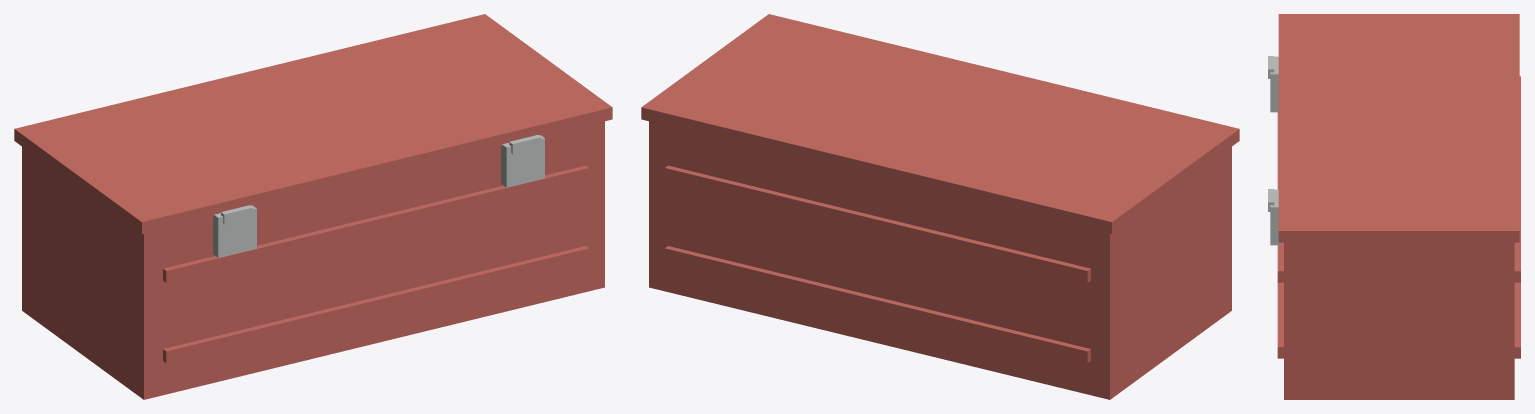
File: toolbox_body.glb
The picture shows the model from 3 angles, left to right: view 1: azimuth 30°, elevation 25°; view 2: azimuth 150°, elevation 25°; view 3: azimuth 270°, elevation 25°; orthographic projection. The views are drawn at different scales.
Visible parts, largest first — view 1: ToolboxBody; view 2: ToolboxBody; view 3: ToolboxBody.
Part boxes in pixels (bbox=[...]): ToolboxBody: bbox=[14, 14, 612, 399]; ToolboxBody: bbox=[641, 14, 1239, 399]; ToolboxBody: bbox=[1268, 14, 1520, 399].
Bounding box in the file's own units: 0.49 × 0.18 × 0.241.
